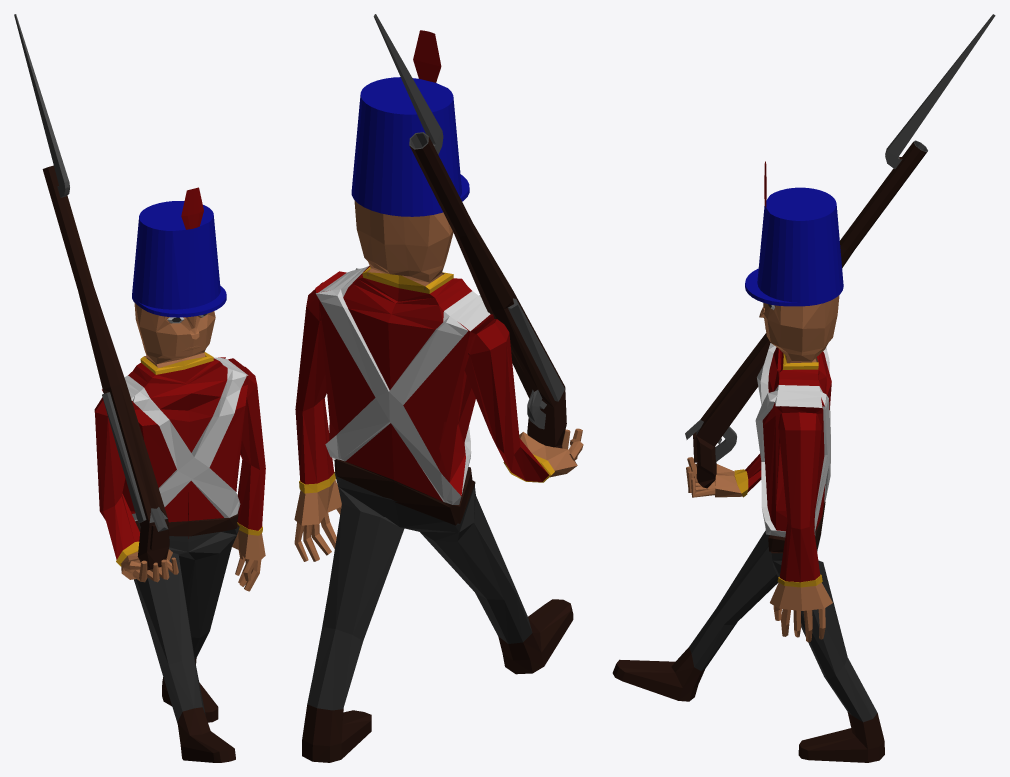
Rendered from Infantry_000018.obj.
The picture shows the model from 3 angles, left to right: view 1: azimuth 30°, elevation 25°; view 2: azimuth 150°, elevation 25°; view 3: azimuth 270°, elevation 25°; orthographic projection. The views are drawn at different scales.
Parts seen in each view (by area): view 1: {Man}_Circle, {Mesket}_Cube.001; view 2: {Man}_Circle, {Mesket}_Cube.001; view 3: {Man}_Circle, {Mesket}_Cube.001.
Boxes of the visible parts, bbox=[...] form: {Man}_Circle: bbox=[94, 187, 265, 762]; {Mesket}_Cube.001: bbox=[14, 14, 169, 570]; {Man}_Circle: bbox=[294, 30, 583, 762]; {Mesket}_Cube.001: bbox=[373, 14, 566, 448]; {Man}_Circle: bbox=[612, 161, 884, 762]; {Mesket}_Cube.001: bbox=[685, 14, 995, 488].
Size of the model in its own units: 5.63 by 19.43 by 9.78.
